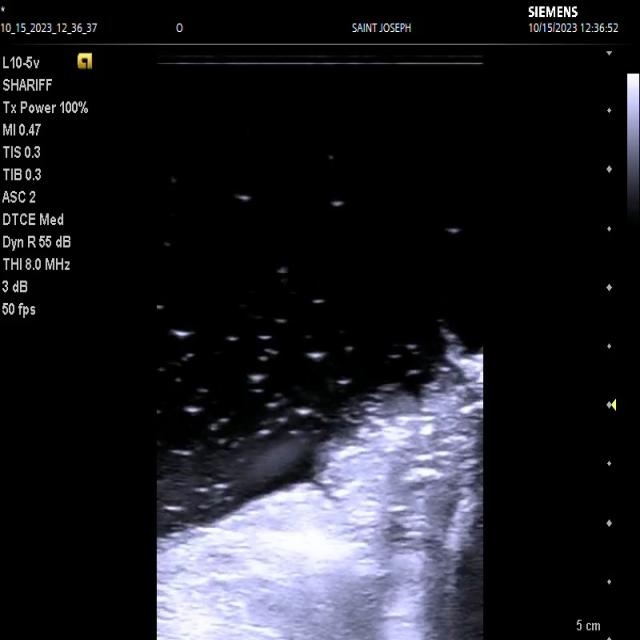tissue: (158, 355, 482, 640)
